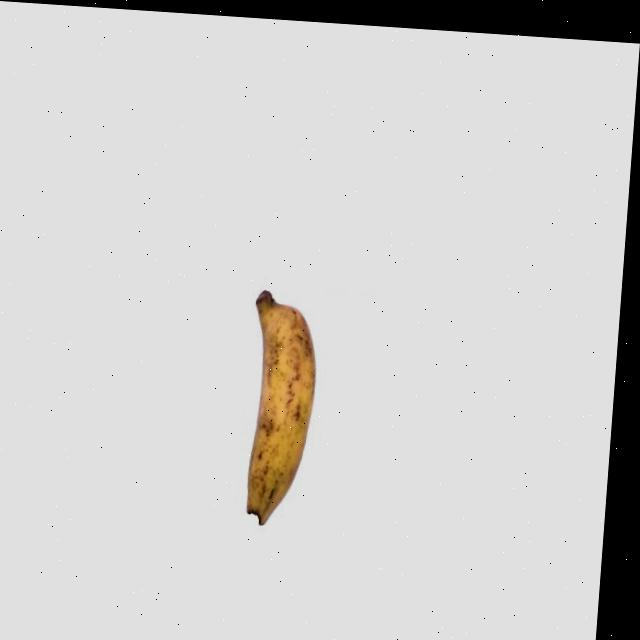banana: (237, 284, 326, 531)
